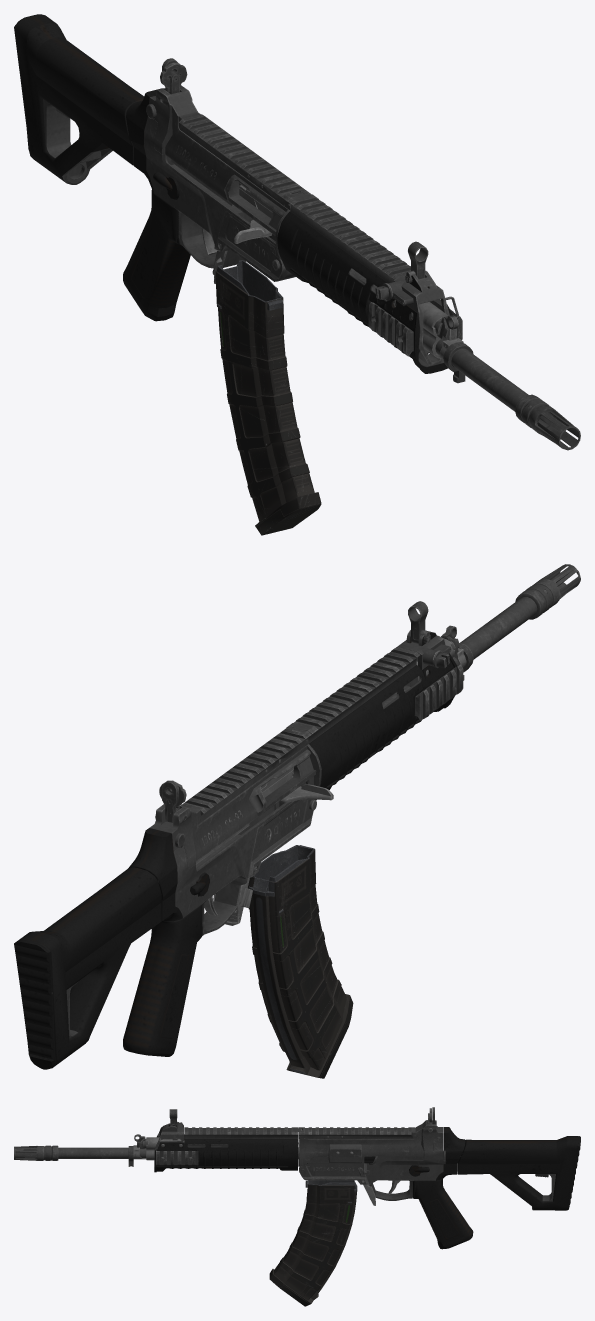
The model's file is qbz191.glb.
3 views of the same model, one above another, from view 1: azimuth 30°, elevation 25°; view 2: azimuth 150°, elevation 25°; view 3: azimuth 270°, elevation 25° (orthographic). The views are drawn at different scales.
Visible parts, largest first — view 1: O_qbz191__Body2, O_qbz191__Body; view 2: O_qbz191__Body2, O_qbz191__Body; view 3: O_qbz191__Body2, O_qbz191__Body.
Boxes of the visible parts, x1,y1,x2,y2 form: O_qbz191__Body2: (14, 14, 580, 450); O_qbz191__Body: (215, 260, 321, 535); O_qbz191__Body2: (14, 564, 580, 1069); O_qbz191__Body: (248, 845, 353, 1078); O_qbz191__Body2: (14, 1107, 580, 1249); O_qbz191__Body: (269, 1180, 357, 1306).
Size of the model in its own units: 0.2031 by 0.9551 by 2.47.
Materials: 2 (2 with a texture image).
